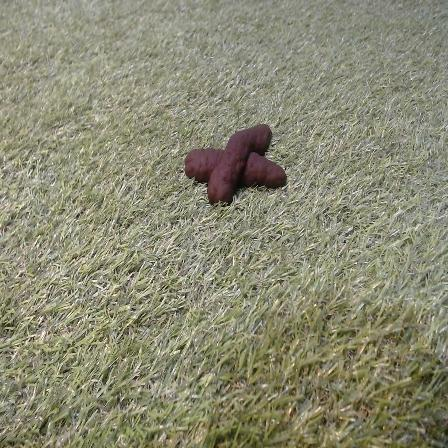dog-poop: (186, 119, 289, 202)
